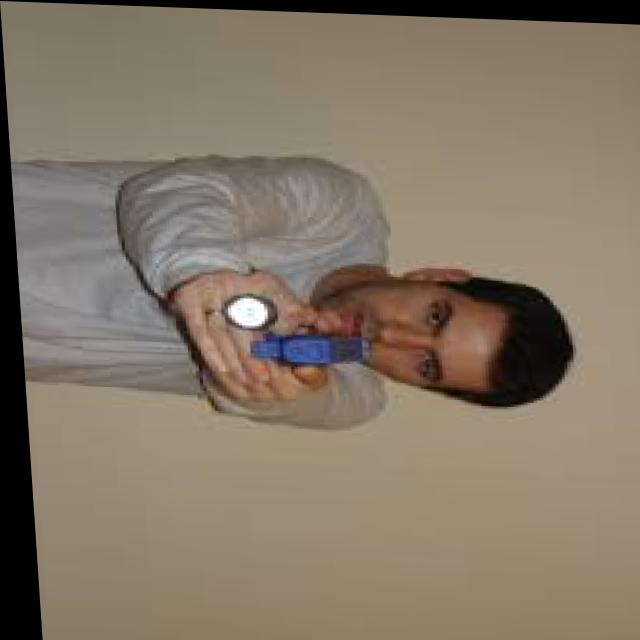handgun: (247, 323, 376, 374)
